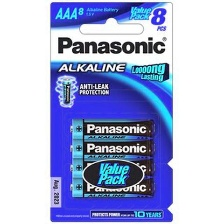battery: (68, 175, 158, 202), (67, 156, 157, 183), (67, 136, 157, 163), (68, 117, 157, 144)
book: (45, 0, 179, 224)
